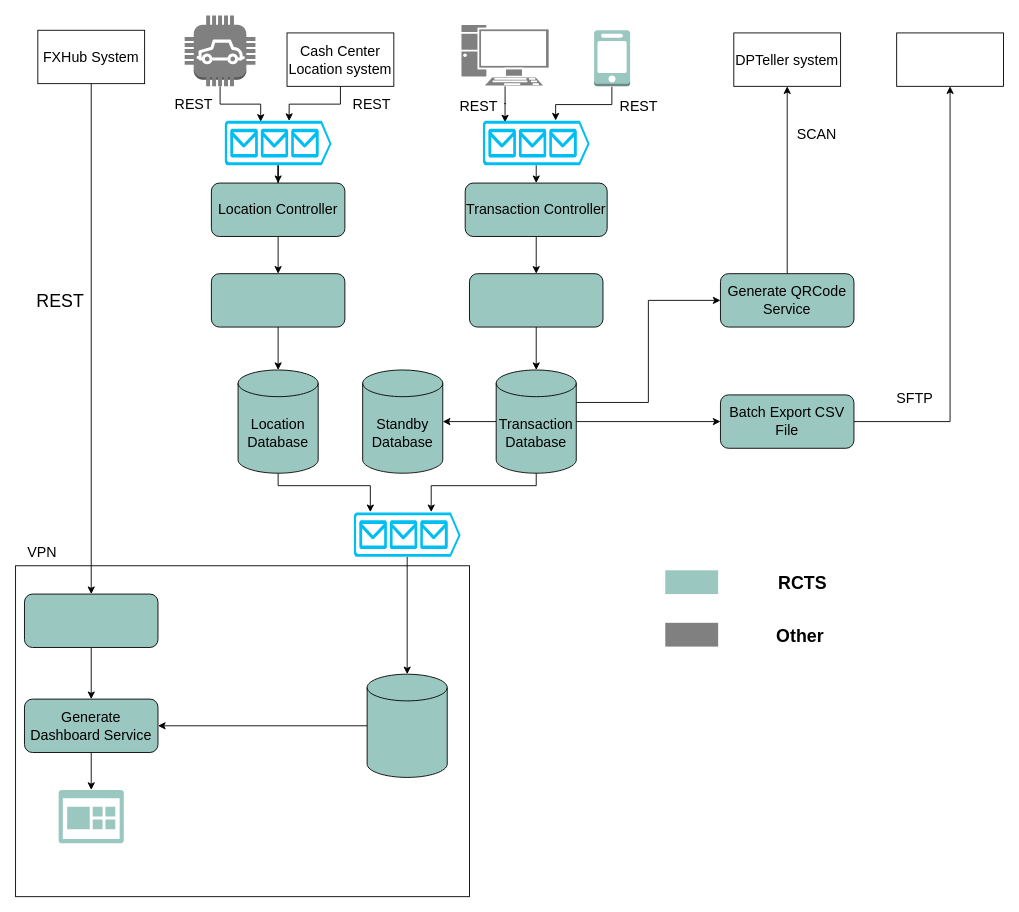
Some shapes in this 1019 by 912 pixel diagram are drawn without their labels. Here are the shapes that lost their labels. From the top down, the centre of each, then its label:
At point (949, 59): "RAE Server".
At point (277, 300): "Location Service".
At point (536, 300): "Transaction Service".
At point (91, 620): "Exchange Rate Controller".
At point (406, 725): "Read Replica Database".
At point (90, 816): "Dashboard".
